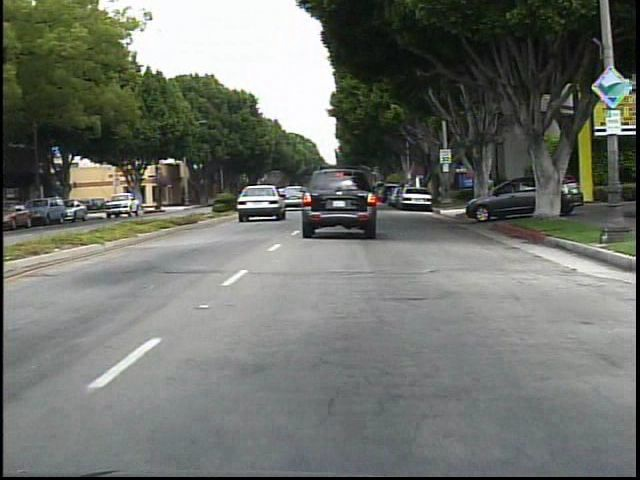person: (479, 170, 497, 209)
